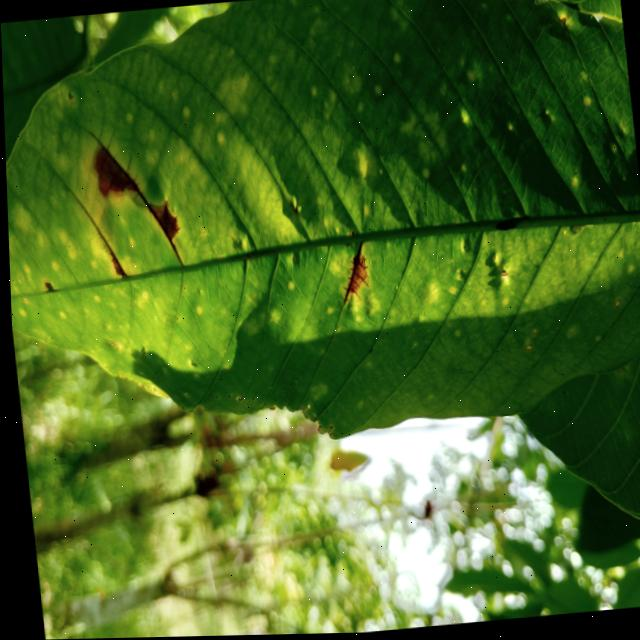Colletotrichum: (611, 301, 619, 309), (522, 345, 528, 351), (499, 271, 504, 277), (234, 397, 239, 401), (326, 425, 330, 430)
Corynespora: (88, 124, 180, 272), (335, 241, 369, 304), (107, 246, 126, 277)
Leaf-Blight: (92, 142, 135, 198), (146, 197, 178, 240)
